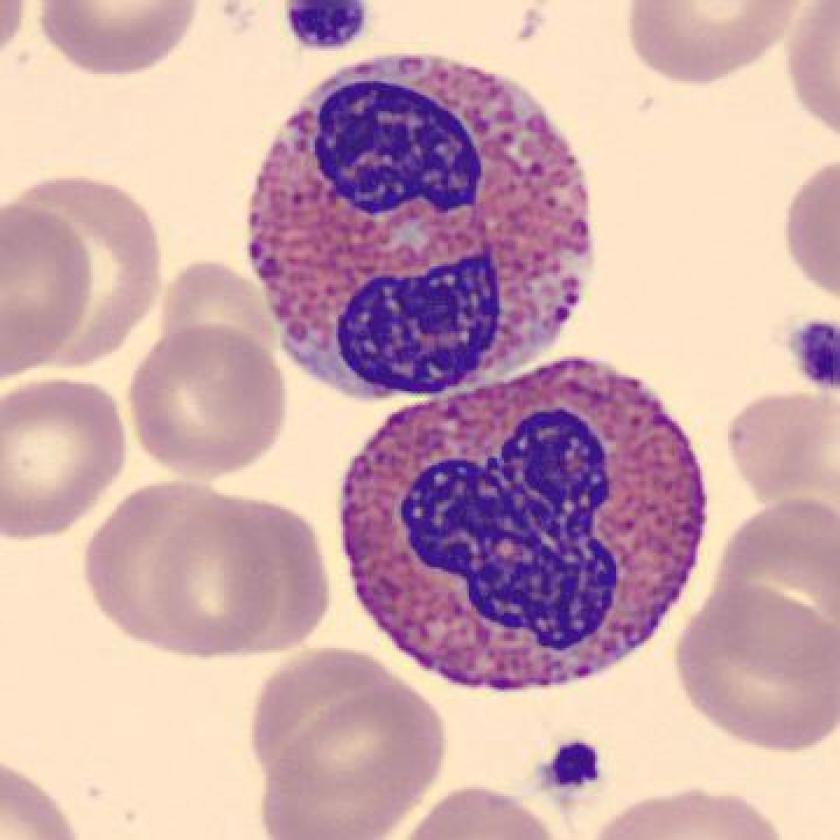eosinophil: (328, 348, 729, 702)
